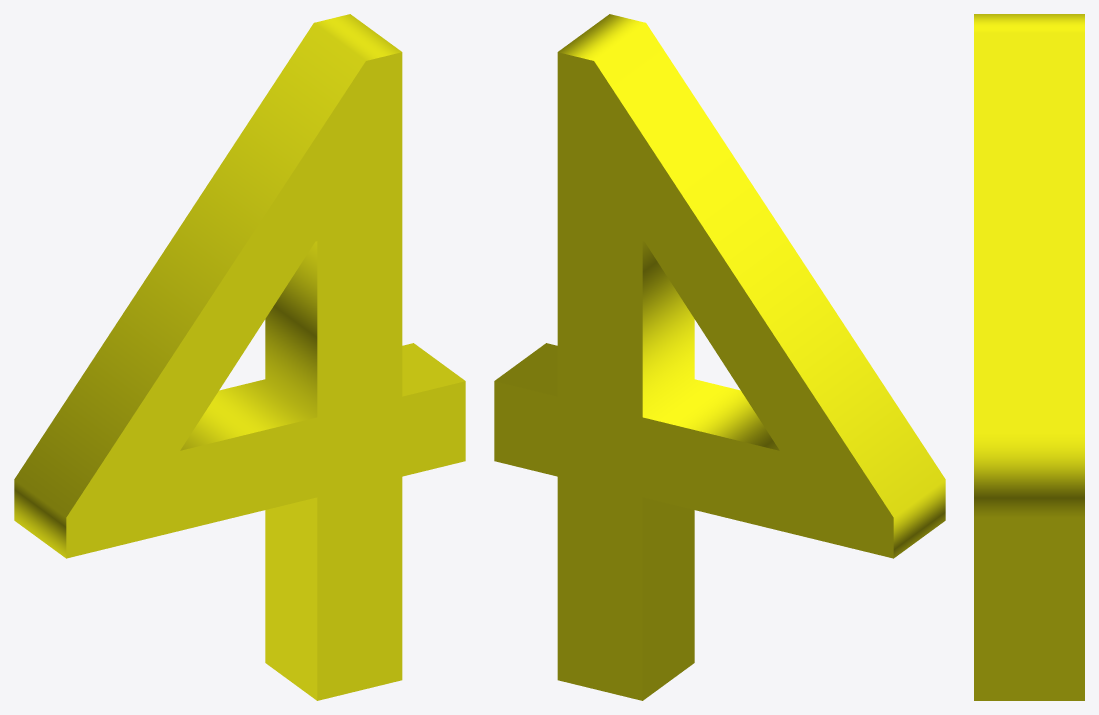
File: Number4Scale2.glb
The picture shows the model from 3 angles, left to right: view 1: azimuth 30°, elevation 25°; view 2: azimuth 150°, elevation 25°; view 3: azimuth 270°, elevation 25°; orthographic projection. The views are drawn at different scales.
Visible parts, largest first — view 1: Number 4; view 2: Number 4; view 3: Number 4.
Part boxes in pixels (x1,y1,x2,y2): Number 4: (14, 14, 465, 700); Number 4: (494, 14, 945, 700); Number 4: (974, 14, 1084, 700).
Size of the model in its own units: 1.42 by 2.13 by 0.32.
